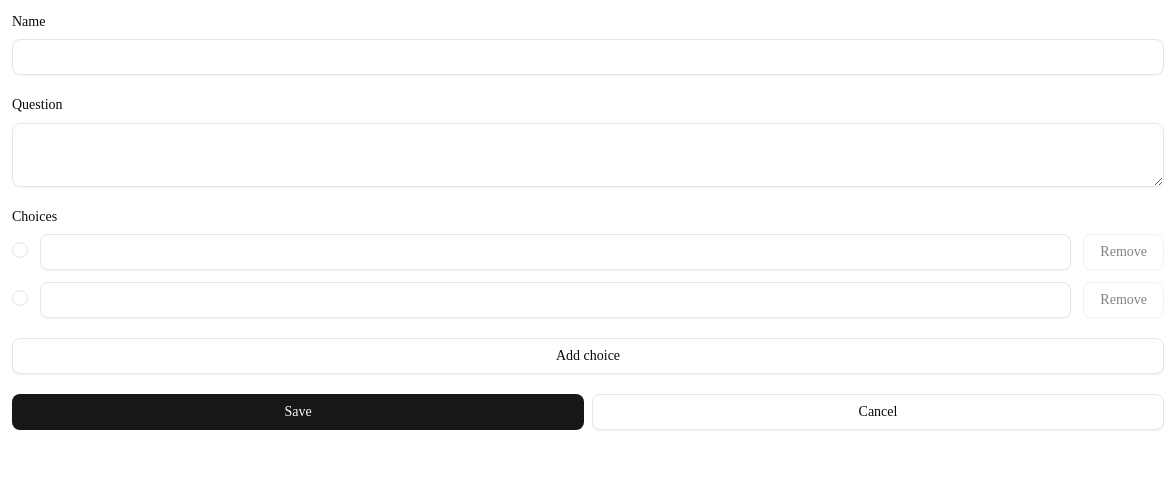
McqForm › save is blocked when a choice is blank
Type "Math basics" into the field labelled "Name". click: point(588, 57)
box: [12, 39, 1164, 75]
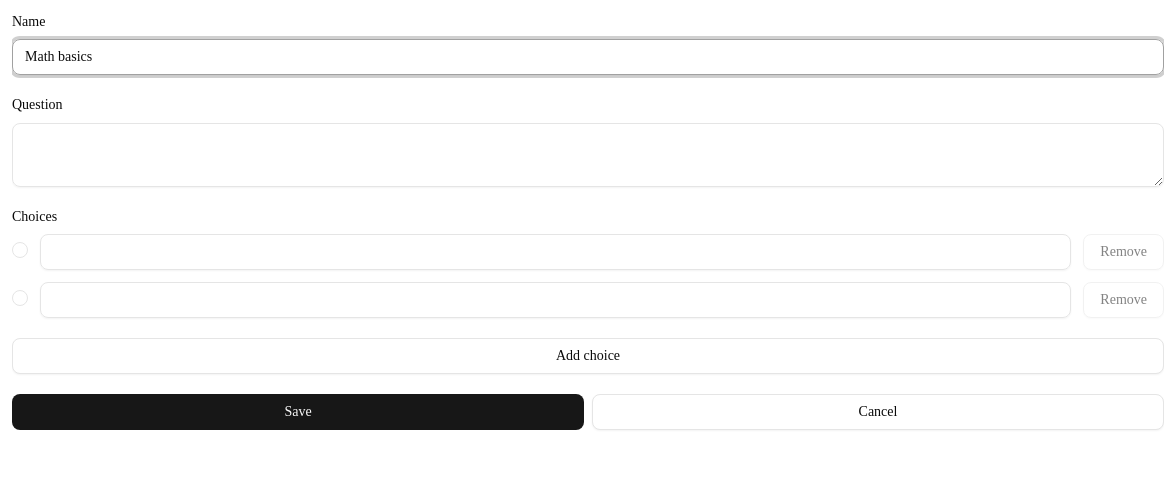
Type "What is 2+2?" into the text box labelled "Question". click: point(588, 154)
box: [12, 122, 1164, 186]
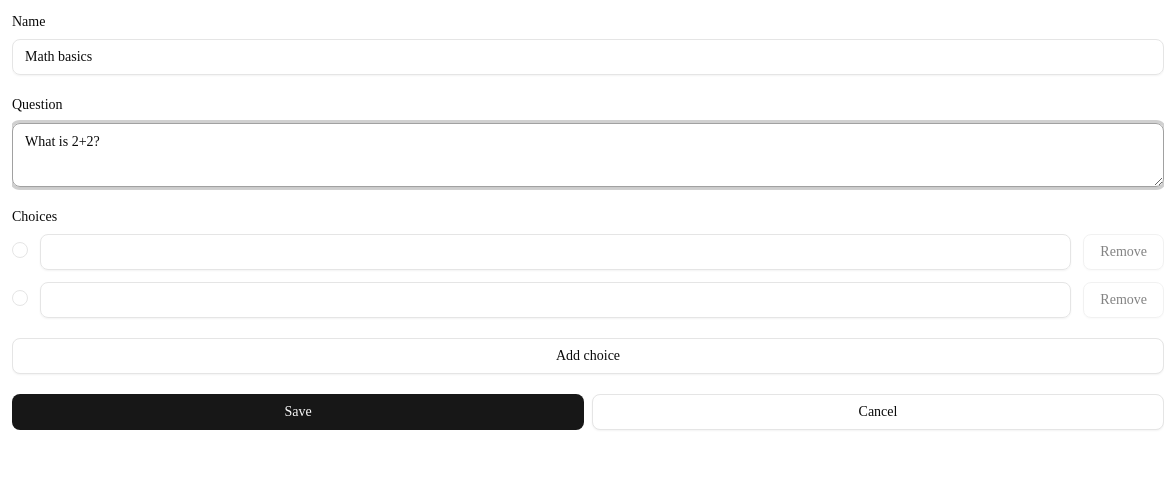
Type "3" into the field named "choice 1". click: point(556, 252)
box: [40, 234, 1071, 270]
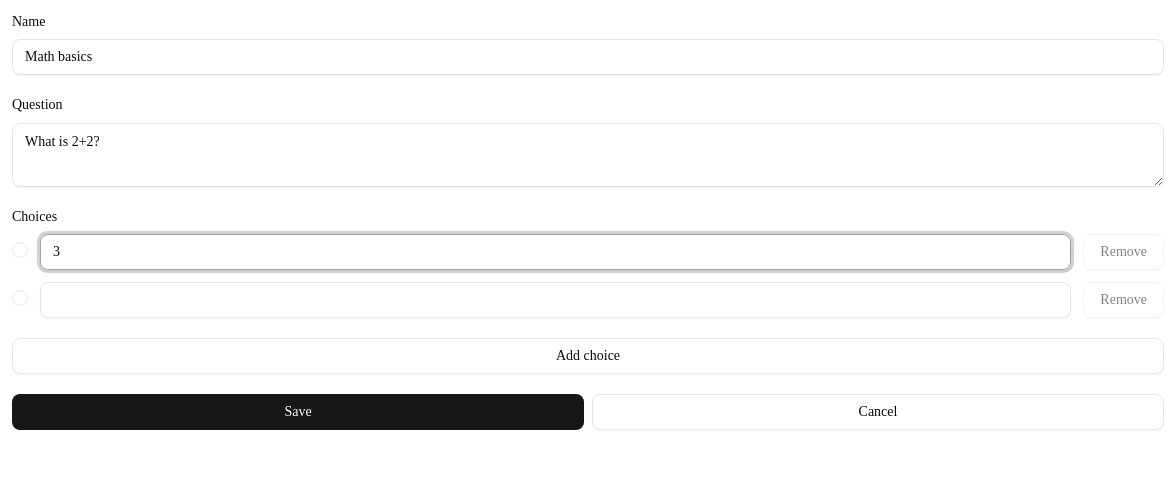
Click the radio button named "mark choice 1 as correct". click: point(20, 250)
box: [12, 242, 28, 258]
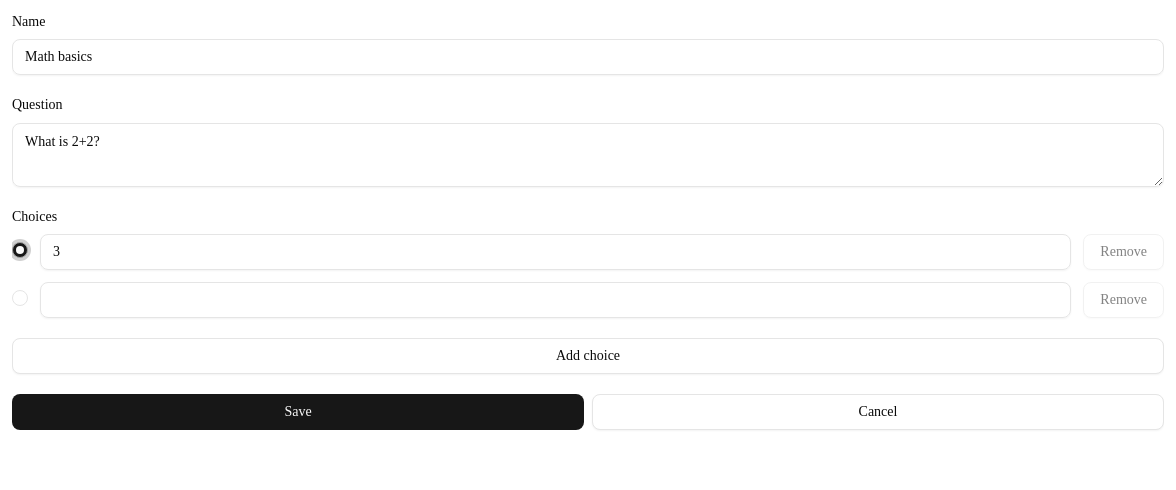
Click the button "Save". click: point(298, 412)
box: [12, 394, 584, 430]
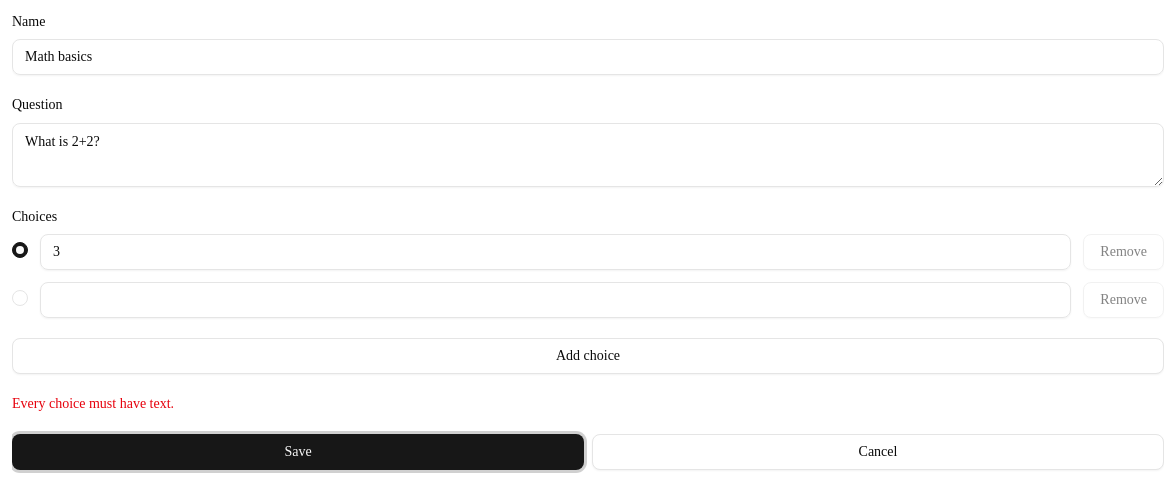
Expected: the message shows "Every choice must have text", [12, 396, 174, 411]
